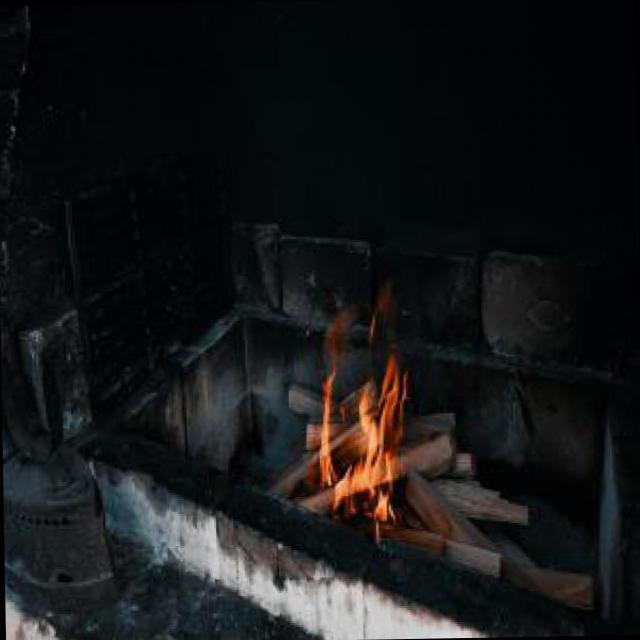fire: (303, 280, 410, 532)
